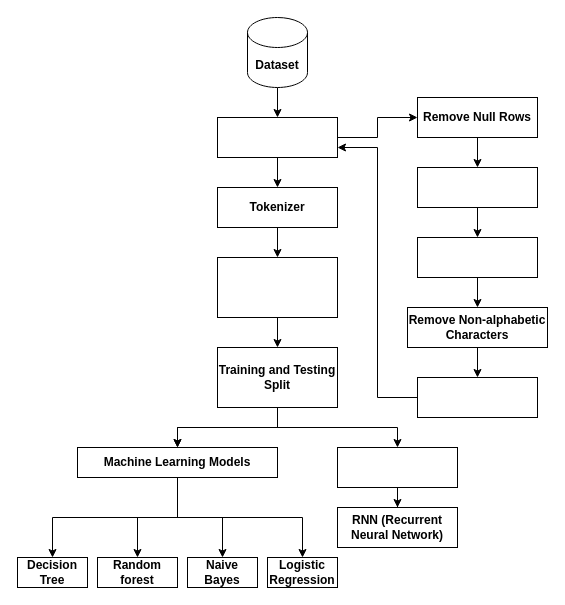
The diagram is 565 pixels wide and 605 high, and some of its shapes have lost their labels. Here are the shapes that lost their labels. From the top down, the centre of each, then its label:
point 277,137: Pre-processing and Data Cleaning
point 477,187: Splitting Data into Tokens
point 477,257: Remove Punctuations
point 277,287: Generating Sequences Data from Text
point 477,397: Generate String of Processed data
point 397,467: Deep Learning Models
